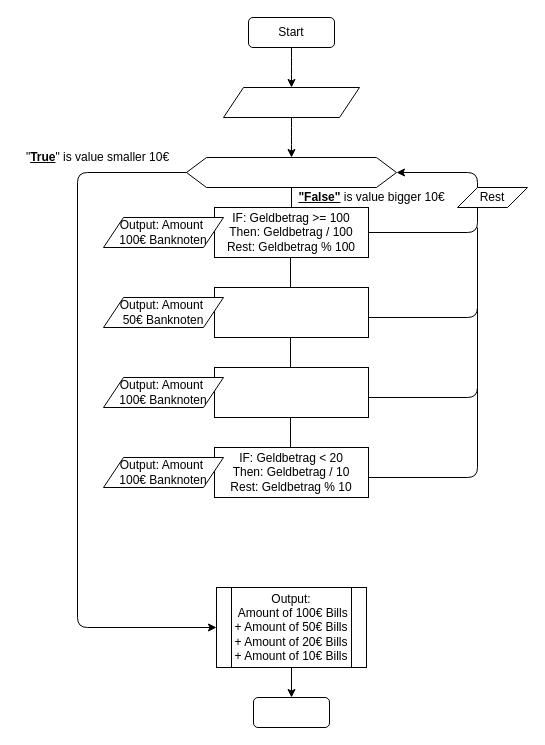
Some shapes in this 545 by 745 pixel diagram are drawn without their labels. Each missing label, with the box of its shape:
End: (252, 696, 330, 728)
IF: Geldbetrag < 100 Then: Geldbetrag / 50 Rest: Geldbetrag % 50: (214, 286, 368, 338)
IF: Geldbetrag < 50 Then: Geldbetrag / 20 Rest: Geldbetrag % 20: (214, 366, 368, 418)
Input Geldbetrag: (222, 86, 360, 118)
while Geldbetrag >= 10: (186, 156, 396, 188)
